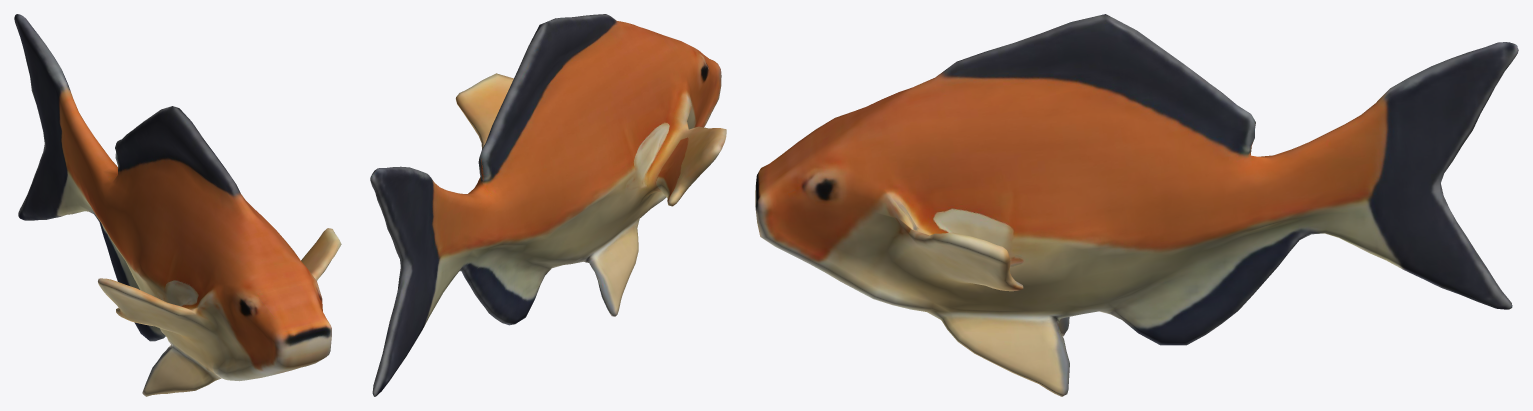
The model's file is fish_11.glb.
The picture shows the model from 3 angles, left to right: view 1: azimuth 30°, elevation 25°; view 2: azimuth 150°, elevation 25°; view 3: azimuth 270°, elevation 25°; orthographic projection. The views are drawn at different scales.
Parts seen in each view (by area): view 1: mesh; view 2: mesh; view 3: mesh.
Boxes of the visible parts, x1,y1,x2,y2 form: mesh: [14, 14, 341, 396]; mesh: [370, 14, 726, 396]; mesh: [755, 14, 1518, 396].
Bounding box in the file's own units: 0.4676 × 0.5049 × 0.9966.
1 material, 1 textured.
